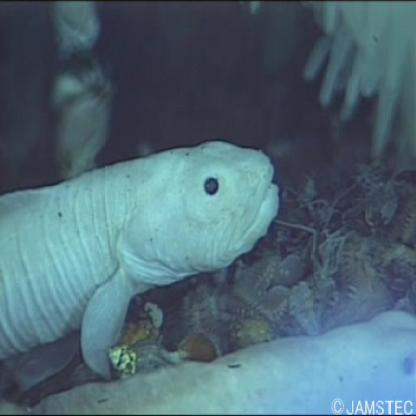Bio: (1, 136, 283, 380)
